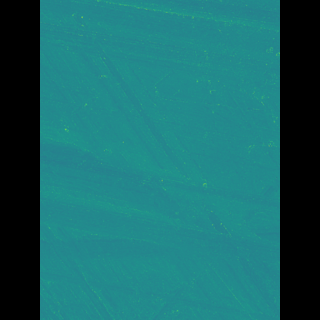Loch: (161, 50, 250, 316)
